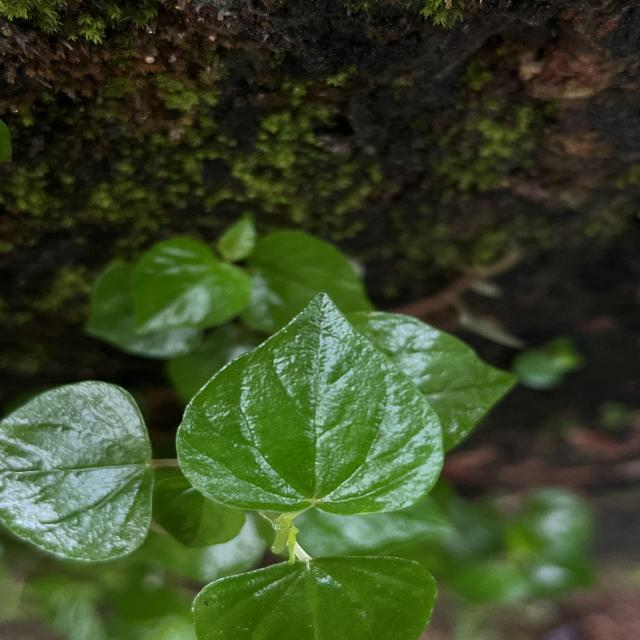Peperomia pellucida: (173, 289, 447, 518)
